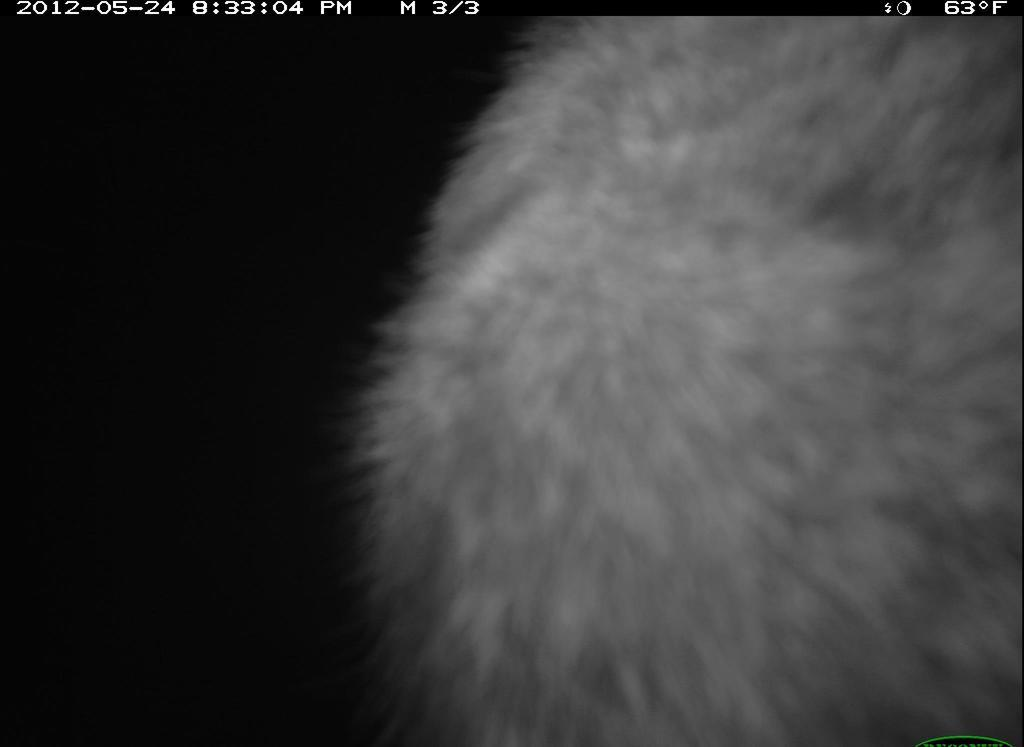raccoon: (327, 13, 1019, 745)
